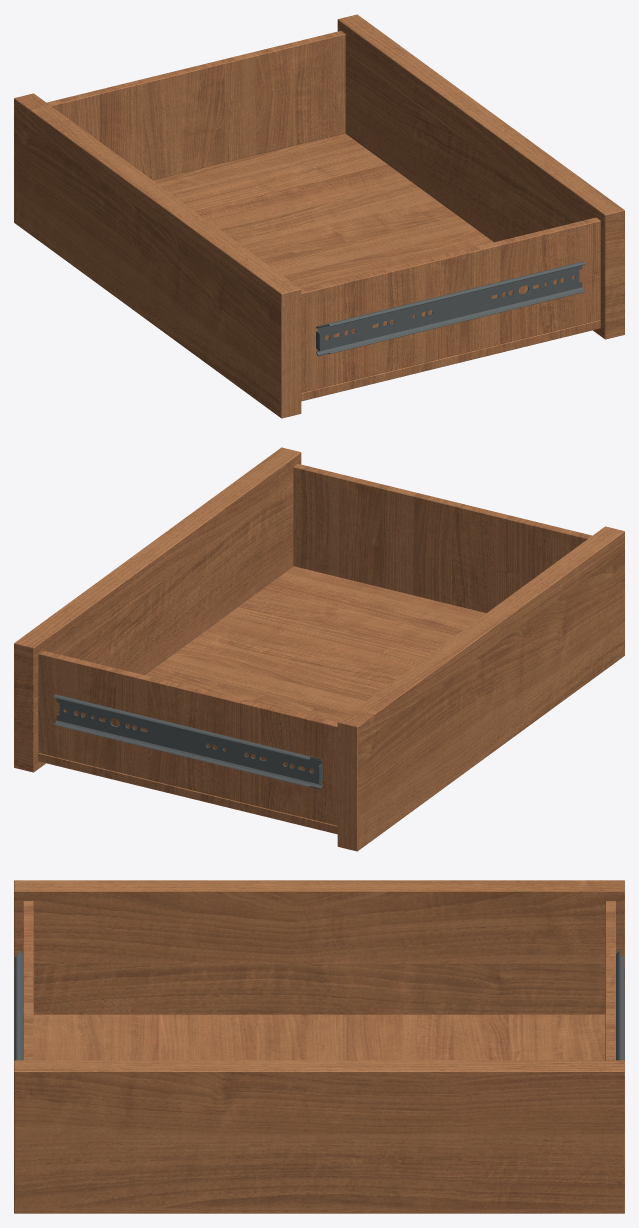
File: Cajon.obj
The picture shows the model from 3 angles, top to bottom: view 1: azimuth 30°, elevation 25°; view 2: azimuth 150°, elevation 25°; view 3: azimuth 270°, elevation 25°; orthographic projection. The views are drawn at different scales.
Visible parts, largest first — view 1: polySurface36; view 2: polySurface36; view 3: polySurface36.
Part boxes in pixels (x1,y1,x2,y2): polySurface36: [14, 14, 624, 418]; polySurface36: [14, 447, 624, 851]; polySurface36: [14, 880, 624, 1213].
Size of the model in its own units: 33.97 by 11.8 by 45.81.
2 materials, 2 textured.
